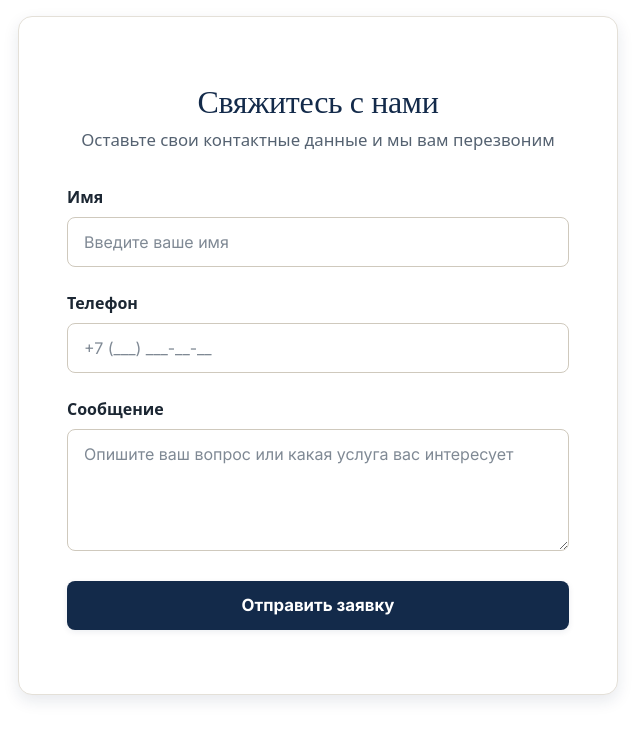
Scenario: ответ не-ok показывает пользователю ошибку, а не молчит
Type "Иван" into the field labelled "Имя". click: point(318, 242)
box: [67,217,569,267]
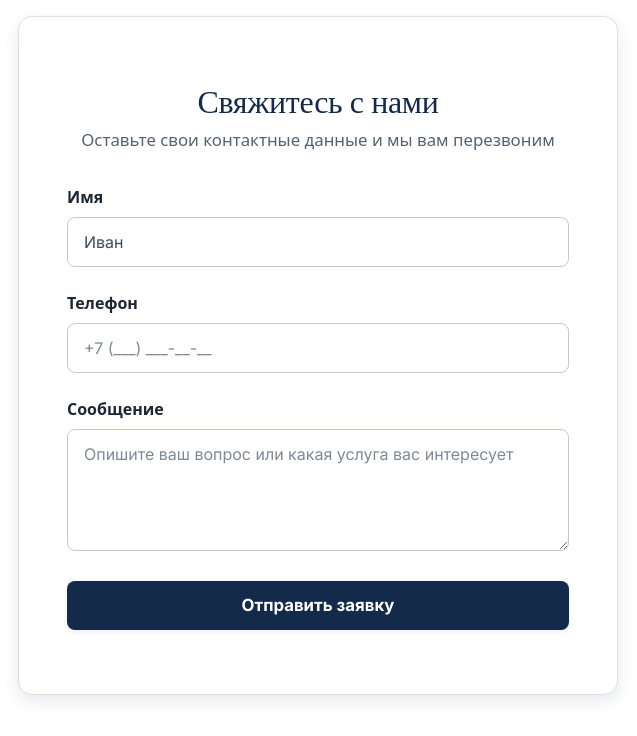
Type "+7 705 000 00 00" into the field labelled "Телефон". click: point(318, 348)
box: [67,323,569,373]
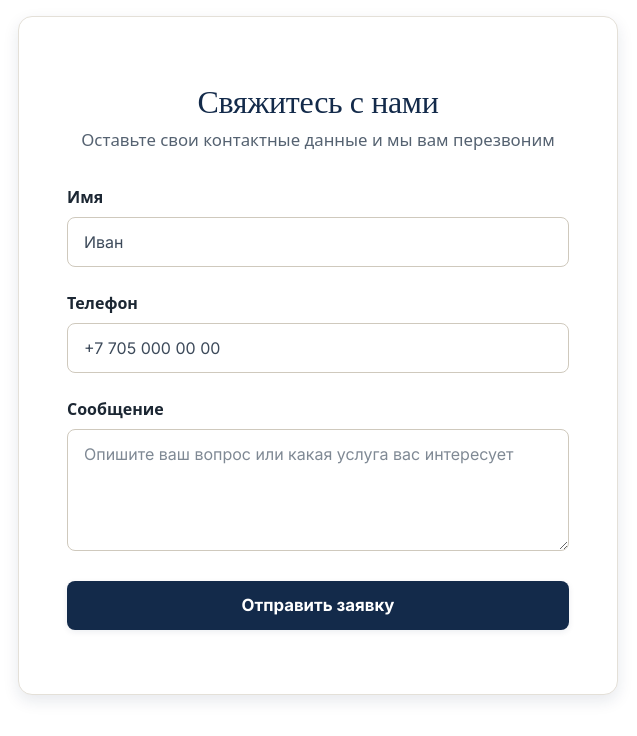
Type "Нужна доверенность" into the text box labelled "Сообщение". click: point(318, 490)
box: [67,429,569,551]
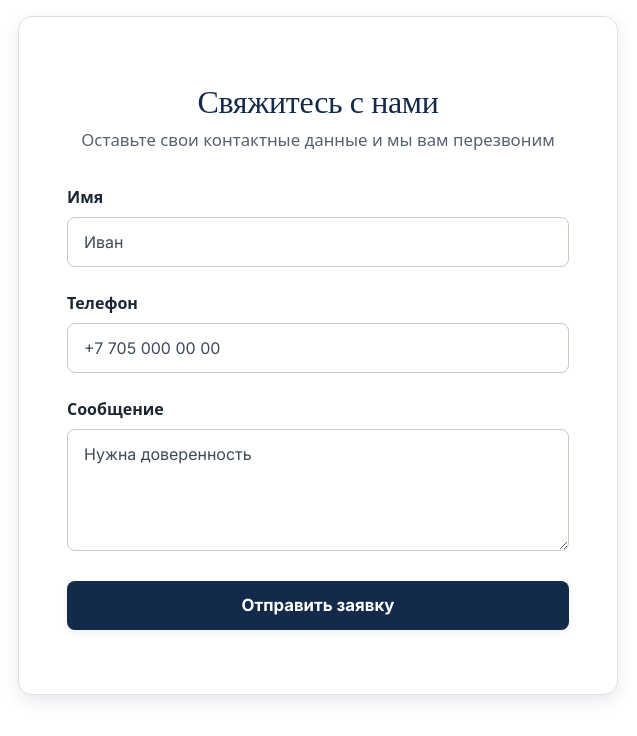
Click the button "Отправить заявку". click: point(318, 605)
box: [67,581,569,630]
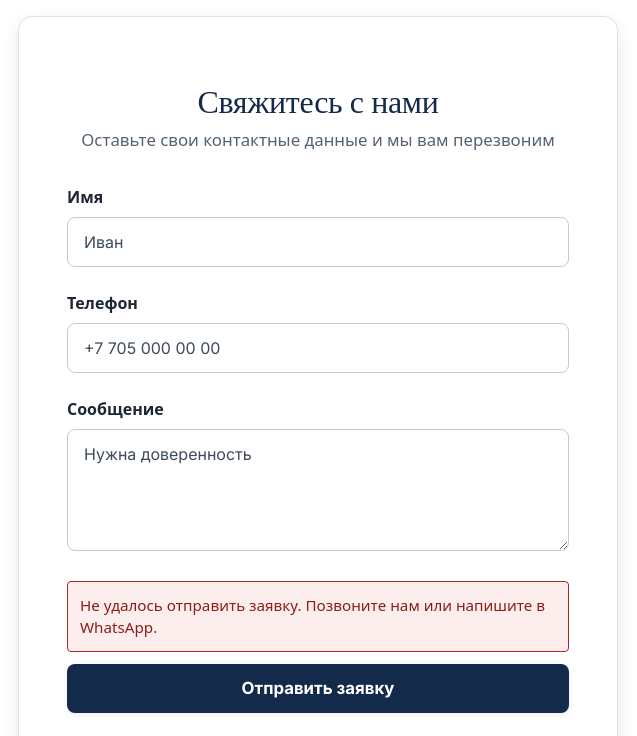
Now the message shows "Не удалось отправить", box [80,595,545,637]
